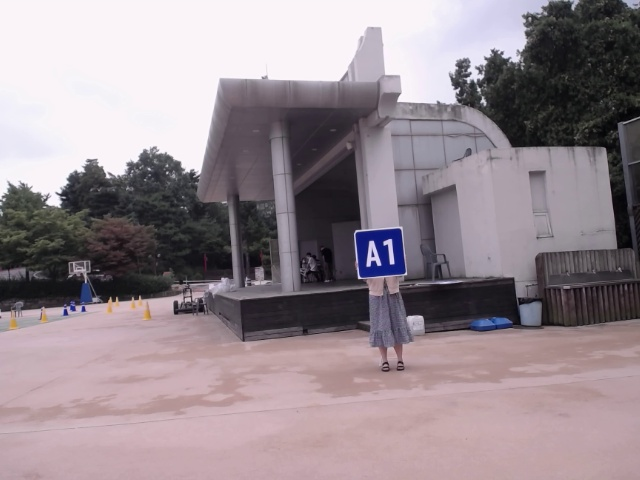delivery_a1: (355, 227, 407, 279)
